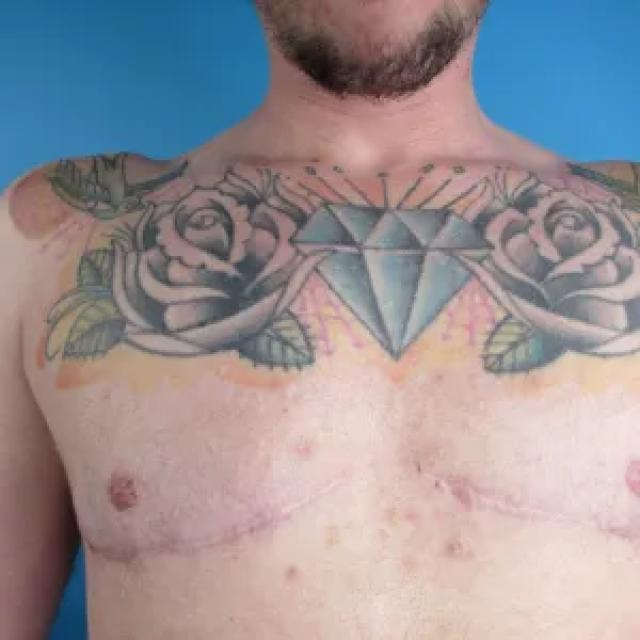Seno herido: (62, 329, 374, 590), (397, 328, 640, 576)
